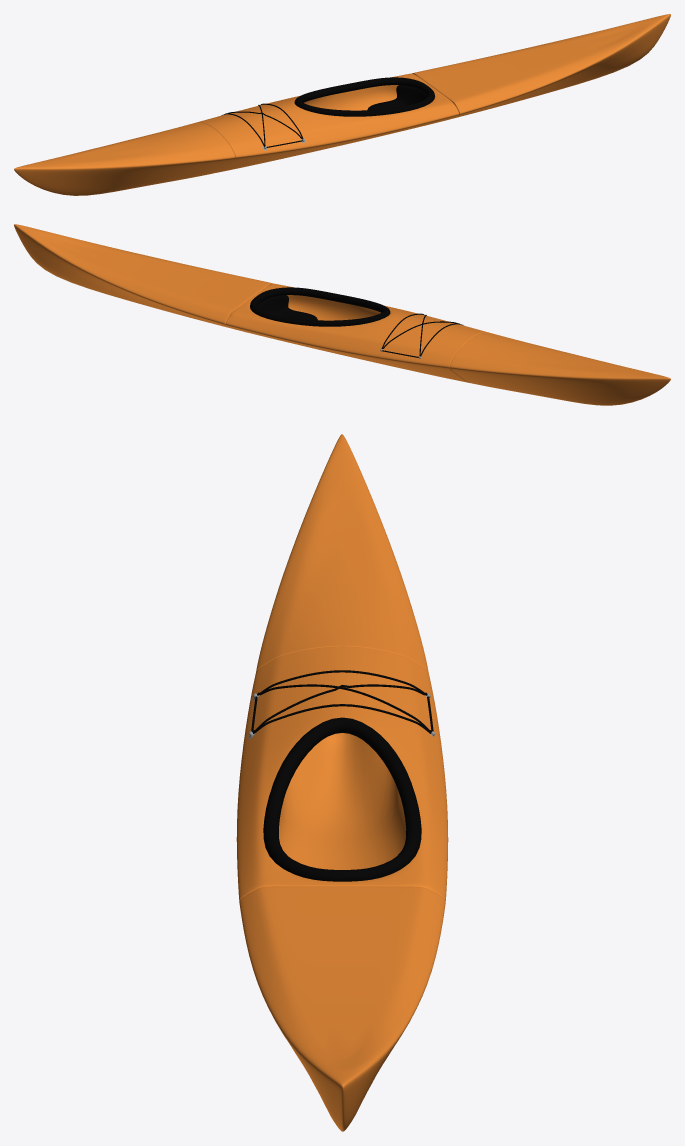
The model's file is Kayak.fbx.
3 renders of one model, top to bottom at view 1: azimuth 30°, elevation 25°; view 2: azimuth 150°, elevation 25°; view 3: azimuth 270°, elevation 25°, orthographic. The views are drawn at different scales.
Visible parts, largest first — view 1: Kayak, Padding, Kayak.001, Elastic; view 2: Kayak, Padding, Kayak.001, Elastic; view 3: Kayak, Padding, Elastic.
Boxes of the visible parts, <box> form: Kayak: <box>14,14,670,195</box>; Padding: <box>294,77,434,116</box>; Kayak.001: <box>367,85,427,110</box>; Elastic: <box>222,103,303,147</box>; Kayak: <box>14,224,670,405</box>; Padding: <box>250,287,390,326</box>; Kayak.001: <box>257,295,317,320</box>; Elastic: <box>381,313,462,357</box>; Kayak: <box>236,434,448,1131</box>; Padding: <box>263,717,421,881</box>; Elastic: <box>251,670,433,733</box>.
Size of the model in its own units: 221 by 18.24 by 30.75.
